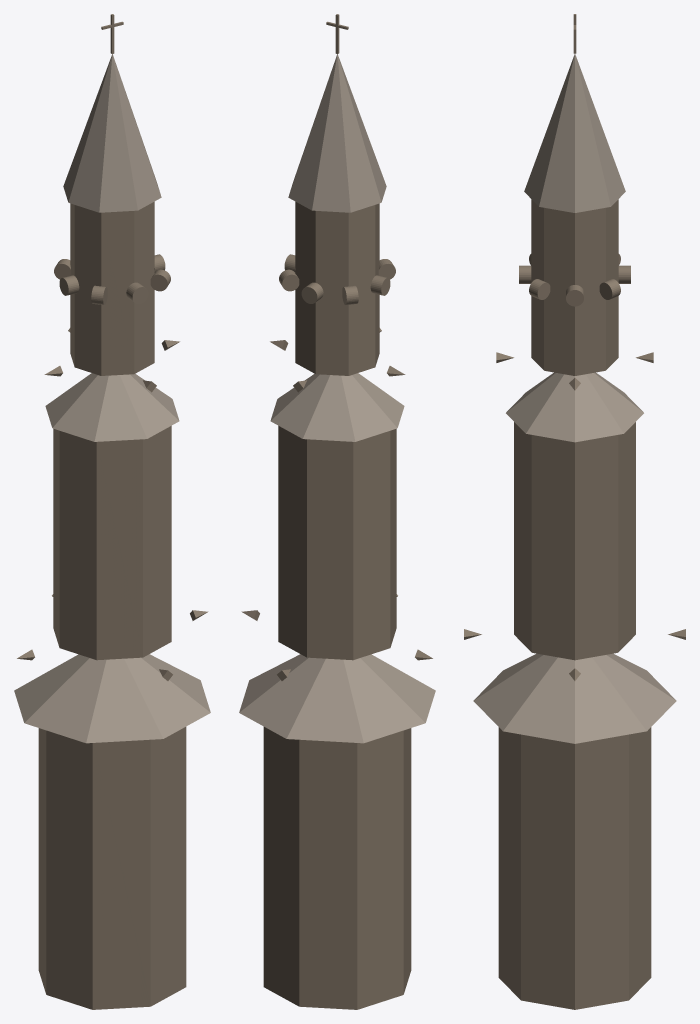
3 renders of one model, left to right at view 1: azimuth 30°, elevation 25°; view 2: azimuth 150°, elevation 25°; view 3: azimuth 270°, elevation 25°, orthographic.
Visible parts, largest first — view 1: Primo_Livello_Ottagonale, Secondo_Livello, Cella_Campanaria, Tetto_Primo_Livello, Guglia_Finale, Tetto_Secondo_Livello; view 2: Primo_Livello_Ottagonale, Secondo_Livello, Cella_Campanaria, Tetto_Primo_Livello, Guglia_Finale, Tetto_Secondo_Livello; view 3: Primo_Livello_Ottagonale, Secondo_Livello, Cella_Campanaria, Tetto_Primo_Livello, Guglia_Finale, Tetto_Secondo_Livello.
Boxes of the visible parts, <box> form: Primo_Livello_Ottagonale: <box>38,727,186,1009</box>; Secondo_Livello: <box>53,426,171,660</box>; Cella_Campanaria: <box>70,201,154,375</box>; Tetto_Primo_Livello: <box>14,654,210,743</box>; Guglia_Finale: <box>63,54,161,212</box>; Tetto_Secondo_Livello: <box>45,373,179,441</box>; Primo_Livello_Ottagonale: <box>263,727,411,1009</box>; Secondo_Livello: <box>278,426,396,660</box>; Cella_Campanaria: <box>295,201,379,375</box>; Tetto_Primo_Livello: <box>239,654,435,743</box>; Guglia_Finale: <box>288,54,386,212</box>; Tetto_Secondo_Livello: <box>270,373,404,441</box>; Primo_Livello_Ottagonale: <box>498,727,651,1009</box>; Secondo_Livello: <box>514,422,635,660</box>; Cella_Campanaria: <box>531,199,618,375</box>; Tetto_Primo_Livello: <box>473,653,676,743</box>; Guglia_Finale: <box>524,54,625,212</box>; Tetto_Secondo_Livello: <box>506,372,643,442</box>.
Size of the model in its own units: 3.63 by 17.4 by 3.63.
